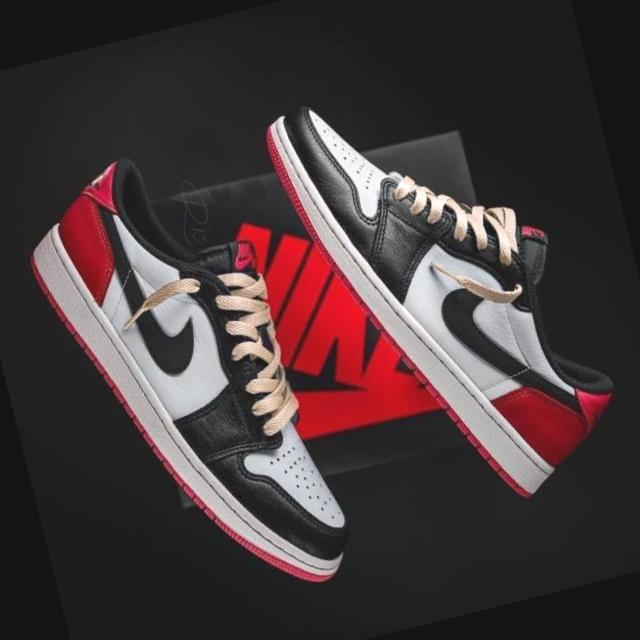nike_original_jordan: (255, 44, 636, 544), (6, 119, 364, 635)
